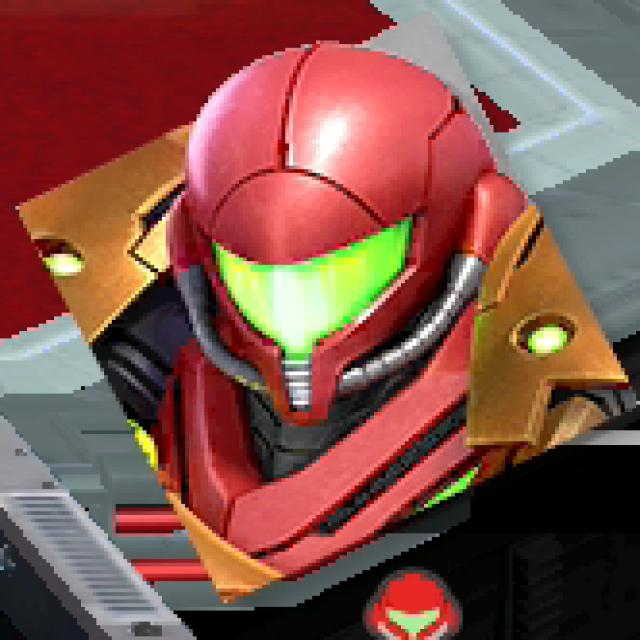samus: (20, 42, 626, 590)
